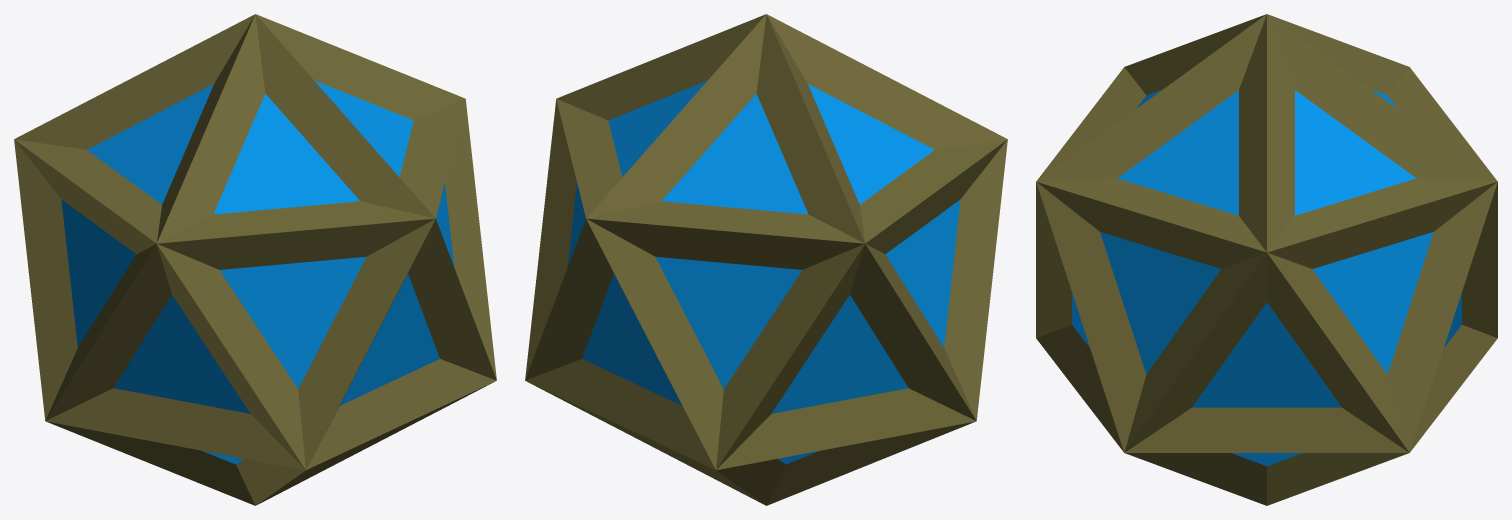
Rendered from HydroEssence.fbx.
3 views of the same model, side by side, from view 1: azimuth 30°, elevation 25°; view 2: azimuth 150°, elevation 25°; view 3: azimuth 270°, elevation 25° (orthographic).
Parts seen in each view (by area): view 1: Icosphere; view 2: Icosphere; view 3: Icosphere.
Boxes of the visible parts, bbox=[...] form: Icosphere: bbox=[14, 14, 496, 505]; Icosphere: bbox=[525, 14, 1007, 505]; Icosphere: bbox=[1036, 14, 1497, 505].
Bounding box in the file's own units: 179 × 200 × 170.
